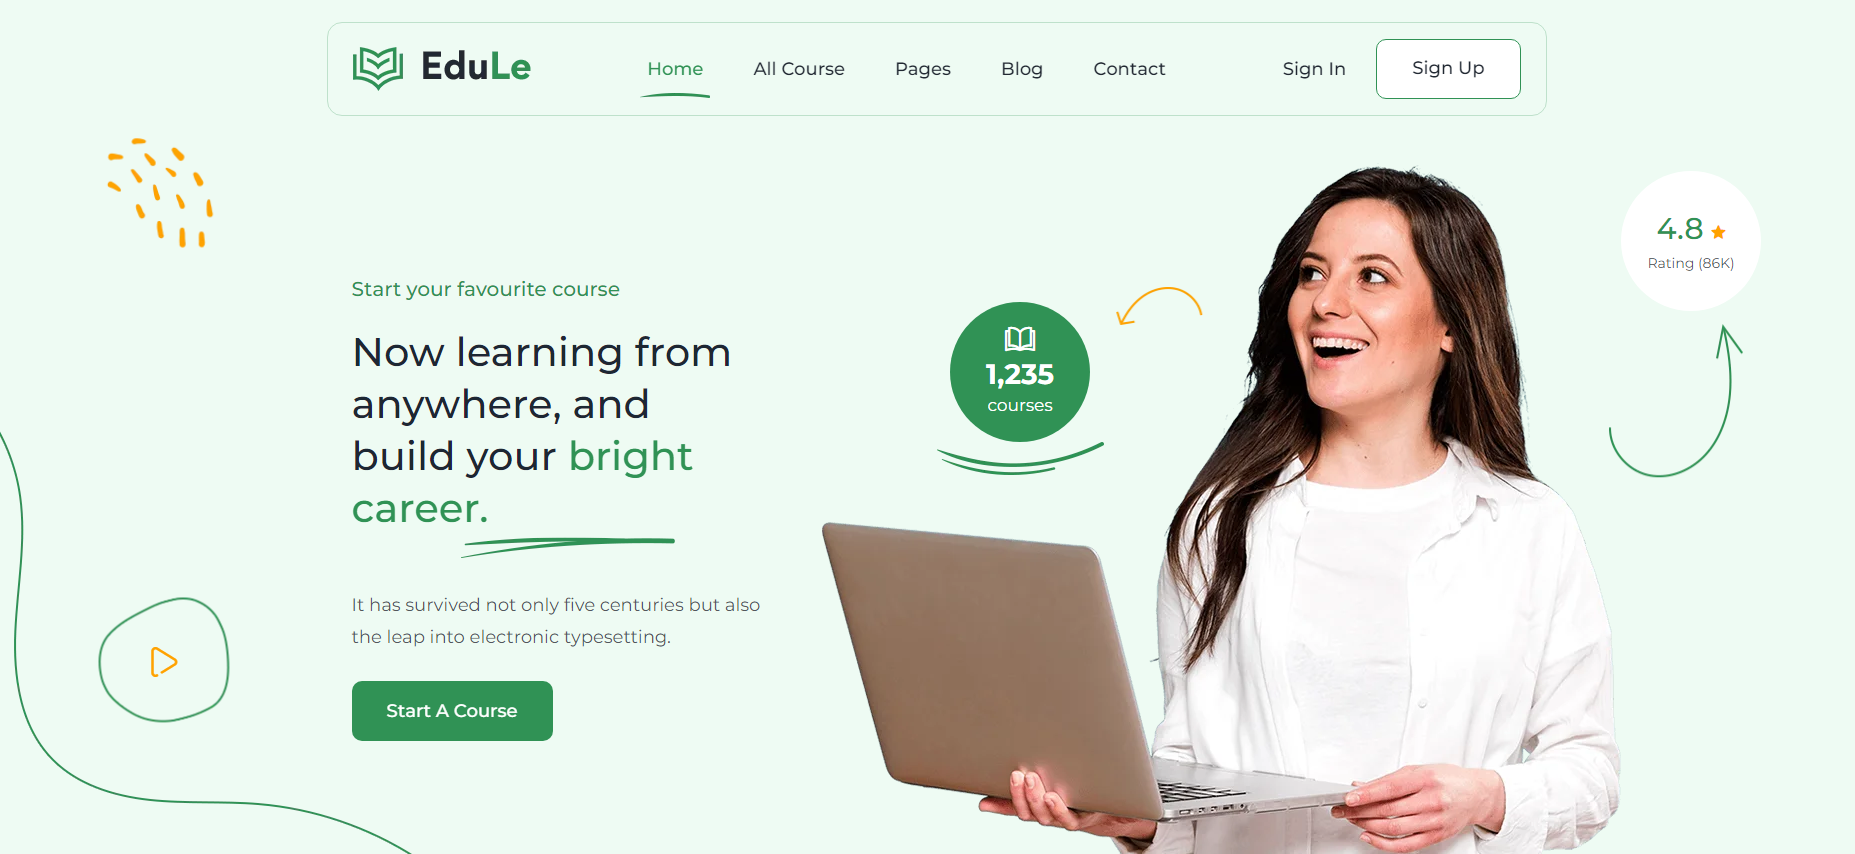menu-bar: (22, 4, 1792, 277)
